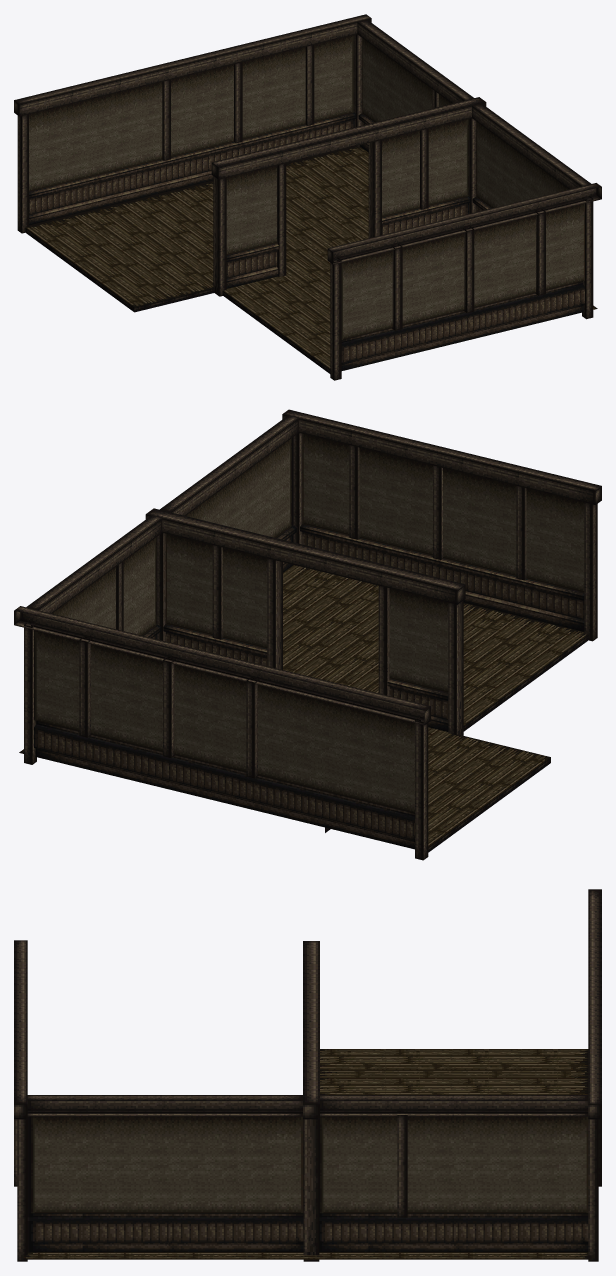
Rendered from EnvBdgMD_WoodHouse_A_Indoor_House_Home.FBX.
3 views of the same model, one above another, from view 1: azimuth 30°, elevation 25°; view 2: azimuth 150°, elevation 25°; view 3: azimuth 270°, elevation 25° (orthographic). The views are drawn at different scales.
Parts seen in each view (by area): view 1: EnvBdgMD_WoodHouse_A_Indoor_House_Home; view 2: EnvBdgMD_WoodHouse_A_Indoor_House_Home; view 3: EnvBdgMD_WoodHouse_A_Indoor_House_Home.
Boxes of the visible parts, bbox=[...] form: EnvBdgMD_WoodHouse_A_Indoor_House_Home: bbox=[14, 14, 601, 380]; EnvBdgMD_WoodHouse_A_Indoor_House_Home: bbox=[14, 409, 601, 860]; EnvBdgMD_WoodHouse_A_Indoor_House_Home: bbox=[14, 889, 601, 1261].
Size of the model in its own units: 1475 by 520 by 1710.
Materials: 1 (1 with a texture image).
